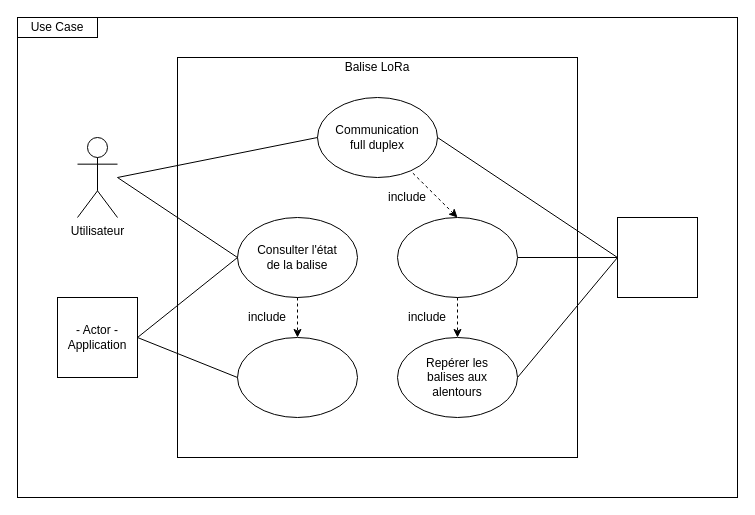
Image size: 755x515. Some labels were removed from this diagram. The centre of each missing label's shape, as x and y in pixels:
"- Actor - Autre(s) balise(s)" goes at (x=657, y=257).
"Se connecter à l'application" goes at (x=297, y=377).
"Établir une communication entre balises" goes at (x=457, y=257).
